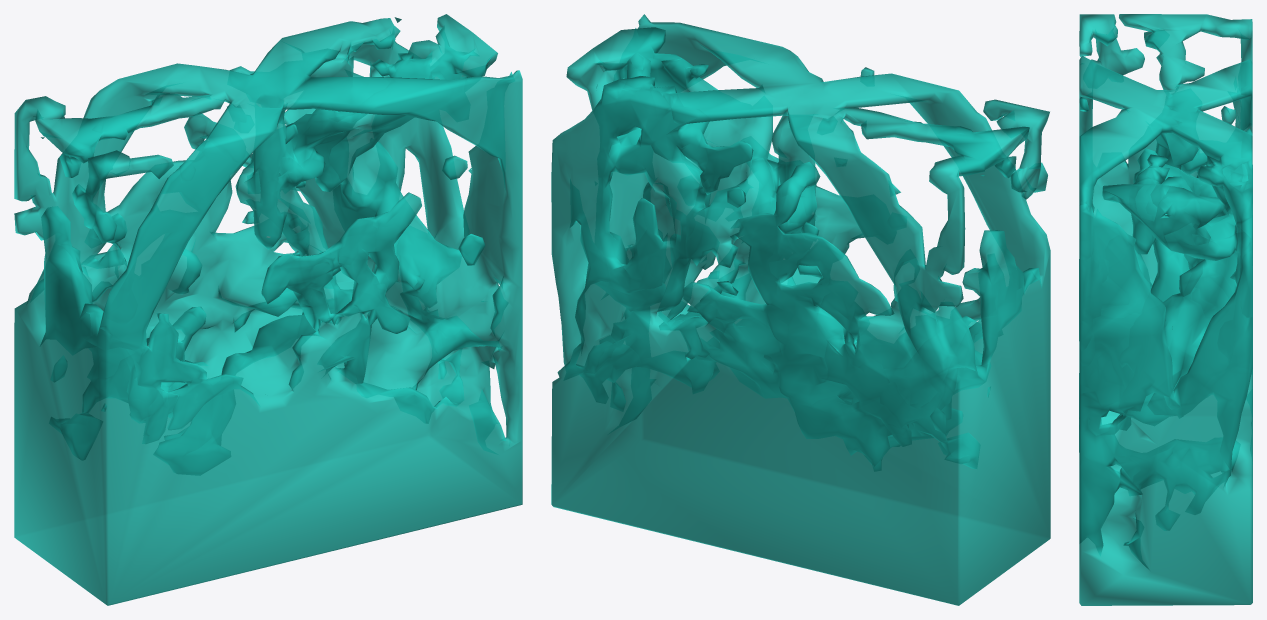
The picture shows the model from 3 angles, left to right: view 1: azimuth 30°, elevation 25°; view 2: azimuth 150°, elevation 25°; view 3: azimuth 270°, elevation 25°; orthographic projection. The views are drawn at different scales.
Visible parts, largest first — view 1: Liquid_Domain; view 2: Liquid_Domain; view 3: Liquid_Domain.
Boxes of the visible parts, <box> form: Liquid_Domain: <box>14,14,522,605</box>; Liquid_Domain: <box>551,14,1050,605</box>; Liquid_Domain: <box>1079,14,1252,605</box>.
Size of the model in its own units: 884 by 884 by 345.
